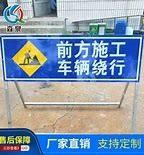sign: (1, 35, 141, 84)
